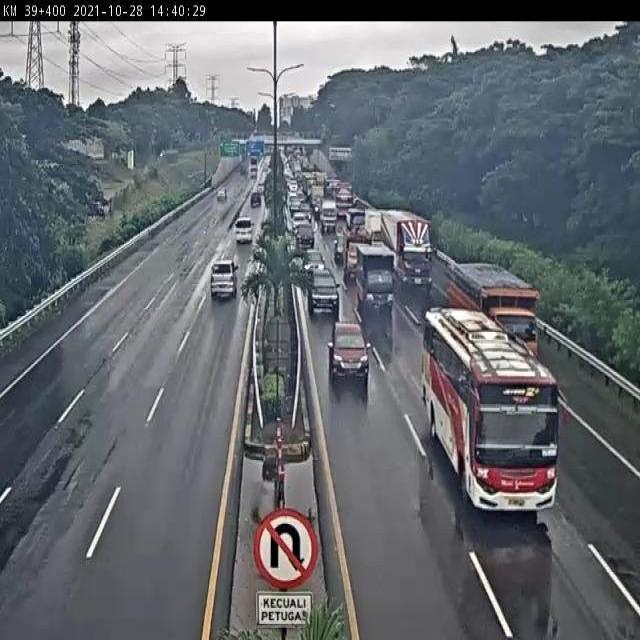bus-l-: (424, 309, 560, 516)
car: (327, 321, 368, 376), (308, 268, 338, 312), (209, 258, 238, 298), (232, 219, 256, 249), (303, 248, 324, 275)
truck-l-: (442, 262, 539, 366), (379, 212, 436, 288)
truck-m-: (357, 245, 396, 312), (343, 229, 375, 283)
